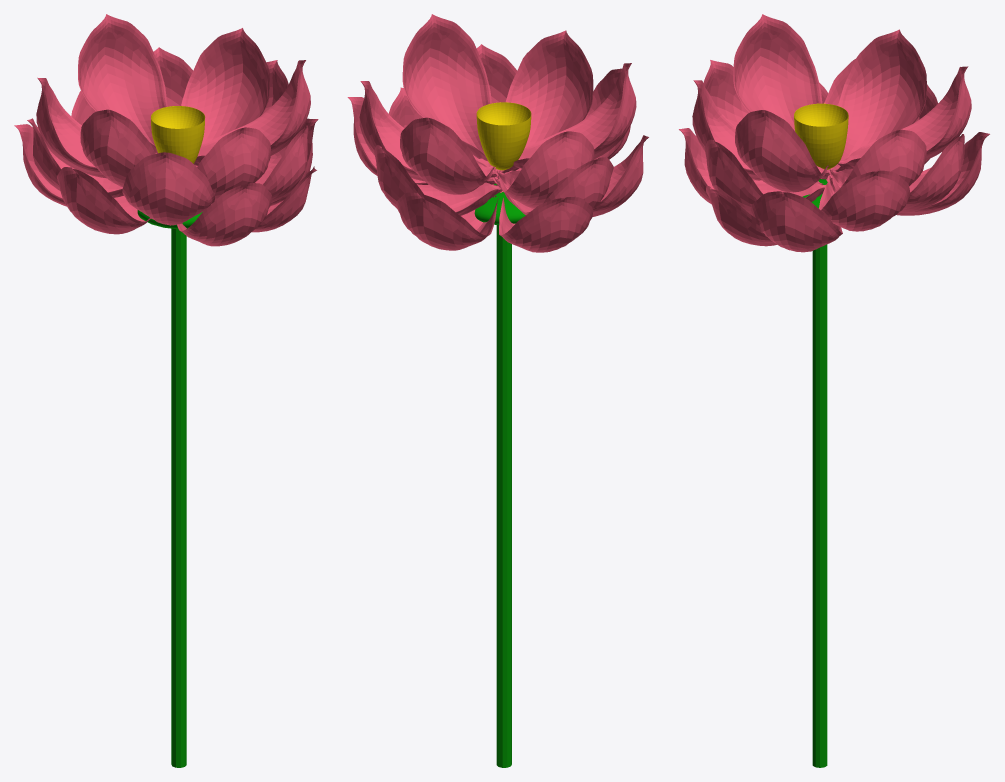
Rendered from Lotus095.fbx.
3 renders of one model, left to right at view 1: azimuth 30°, elevation 25°; view 2: azimuth 150°, elevation 25°; view 3: azimuth 270°, elevation 25°, orthographic.
Visible parts, largest first — view 1: pCylinder1, nurbsToPoly23, nurbsToPoly19, nurbsToPoly16, nurbsToPoly21, nurbsToPoly8, nurbsToPoly18, nurbsToPoly11, nurbsToPoly22, nurbsToPoly20, pSphere3, nurbsToPoly13 (+6 smaller); view 2: pCylinder1, nurbsToPoly22, nurbsToPoly18, nurbsToPoly23, nurbsToPoly20, nurbsToPoly10, nurbsToPoly12, nurbsToPoly21, pSphere3, nurbsToPoly17, nurbsToPoly19, nurbsToPoly14 (+6 smaller); view 3: pCylinder1, nurbsToPoly20, nurbsToPoly21, nurbsToPoly22, nurbsToPoly15, nurbsToPoly9, nurbsToPoly23, nurbsToPoly19, pSphere3, nurbsToPoly13, nurbsToPoly17, nurbsToPoly18 (+5 smaller).
Part boxes in pixels (left/top/right/bottom): pCylinder1: left=171, top=228, right=186, bottom=767; nurbsToPoly23: left=78, top=14, right=167, bottom=153; nurbsToPoly19: left=181, top=28, right=269, bottom=144; nurbsToPoly16: left=122, top=152, right=214, bottom=225; nurbsToPoly21: left=80, top=109, right=155, bottom=187; nurbsToPoly8: left=177, top=183, right=271, bottom=246; nurbsToPoly18: left=196, top=127, right=270, bottom=200; nurbsToPoly11: left=57, top=167, right=150, bottom=234; nurbsToPoly22: left=194, top=60, right=310, bottom=165; nurbsToPoly20: left=36, top=77, right=106, bottom=178; pSphere3: left=151, top=106, right=205, bottom=163; nurbsToPoly13: left=255, top=125, right=308, bottom=202; pCylinder1: left=496, top=225, right=511, bottom=767; nurbsToPoly22: left=402, top=14, right=491, bottom=161; nurbsToPoly18: left=494, top=30, right=593, bottom=173; nurbsToPoly23: left=400, top=117, right=495, bottom=194; nurbsToPoly20: left=495, top=131, right=594, bottom=207; nurbsToPoly10: left=396, top=191, right=501, bottom=250; nurbsToPoly12: left=499, top=190, right=592, bottom=252; nurbsToPoly21: left=511, top=63, right=636, bottom=168; pSphere3: left=476, top=102, right=531, bottom=170; nurbsToPoly17: left=374, top=145, right=502, bottom=215; nurbsToPoly19: left=359, top=81, right=500, bottom=181; nurbsToPoly14: left=493, top=157, right=613, bottom=214; pCylinder1: left=812, top=244, right=827, bottom=767; nurbsToPoly20: left=829, top=29, right=926, bottom=171; nurbsToPoly21: left=733, top=14, right=822, bottom=130; nurbsToPoly22: left=735, top=110, right=828, bottom=192; nurbsToPoly15: left=819, top=170, right=910, bottom=231; nurbsToPoly9: left=750, top=191, right=842, bottom=252; nurbsToPoly23: left=838, top=66, right=971, bottom=167; nurbsToPoly19: left=828, top=129, right=926, bottom=190; pSphere3: left=794, top=103, right=848, bottom=169; nurbsToPoly13: left=704, top=139, right=825, bottom=213; nurbsToPoly17: left=826, top=134, right=964, bottom=212; nurbsToPoly18: left=692, top=80, right=832, bottom=180.
Bounding box in the file's own units: 19 × 50.39 × 20.25.
